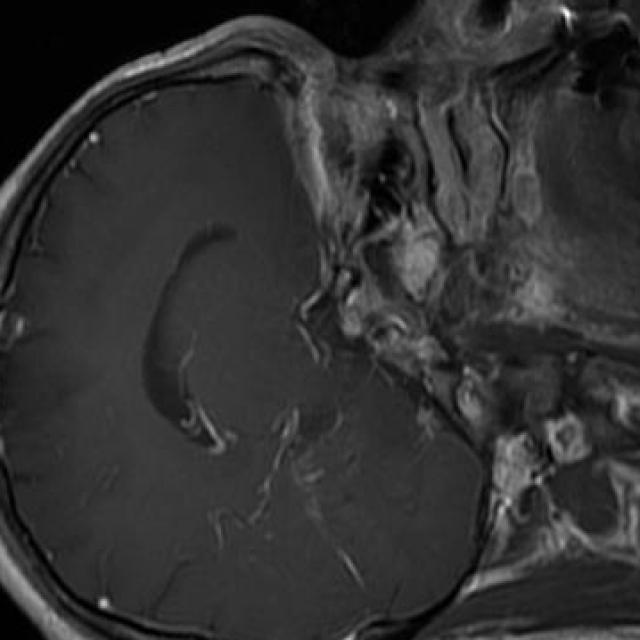glioma: (0, 314, 78, 431)
